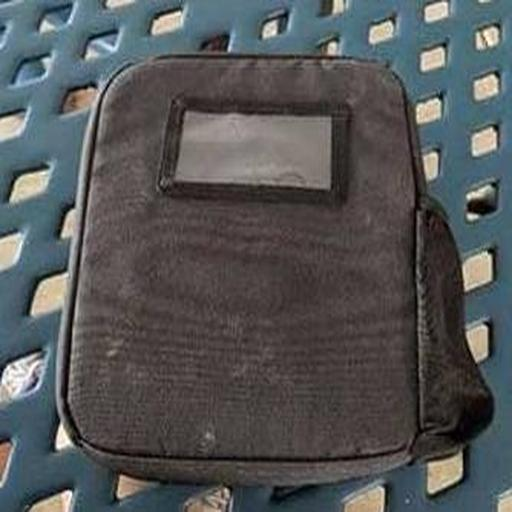Crewmate: (53, 47, 423, 473)
